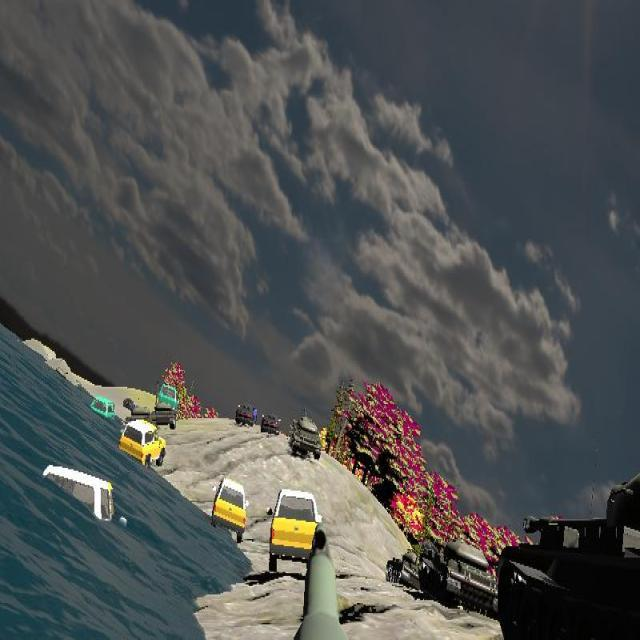Tank: (497, 465, 640, 639), (419, 535, 497, 615), (289, 406, 323, 461)
car: (270, 486, 320, 572), (119, 420, 166, 473), (210, 476, 247, 543), (155, 382, 179, 421)
